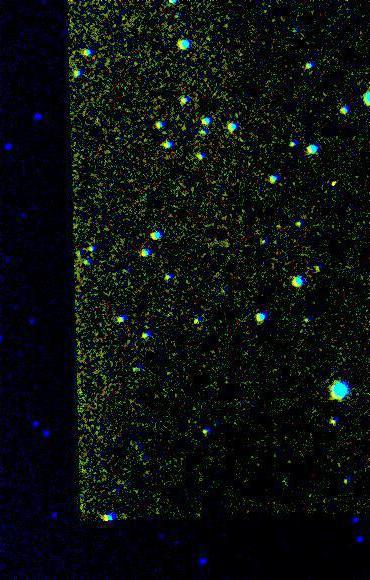star: (316, 169, 346, 199)
